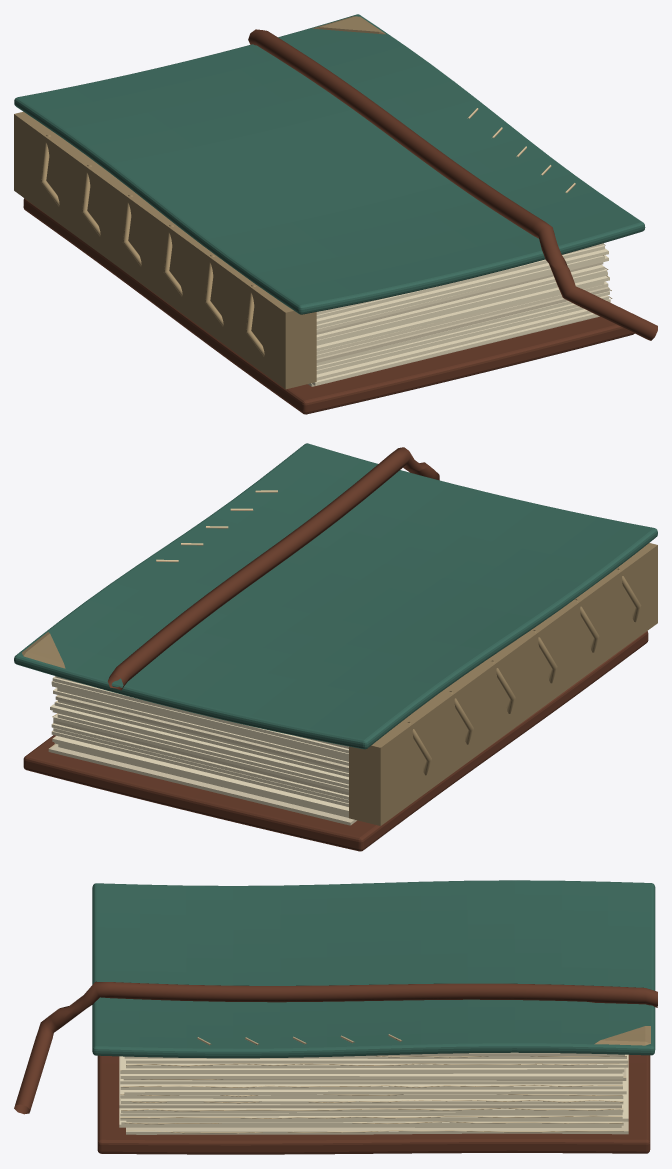
3 renders of one model, top to bottom at view 1: azimuth 30°, elevation 25°; view 2: azimuth 150°, elevation 25°; view 3: azimuth 270°, elevation 25°, orthographic. The views are drawn at different scales.
Visible parts, largest first — view 1: Bent field cover, Wrapped spine skin.001, Flexible lower cover, Loose leather binding tie, Uneven paper signature.059, Uneven paper signature.044, Uneven paper signature.052, Uneven paper signature.055, Uneven paper signature.043, Uneven paper signature.049, Uneven paper signature.047, Uneven paper signature.058 (+10 smaller); view 2: Bent field cover, Wrapped spine skin.001, Flexible lower cover, Loose leather binding tie, Uneven paper signature.042, Uneven paper signature.045, Uneven paper signature.053, Uneven paper signature.056, Uneven paper signature.048, Uneven paper signature.051, Uneven paper signature.057, Uneven paper signature.054 (+12 smaller); view 3: Bent field cover, Flexible lower cover, Loose leather binding tie, Uneven paper signature.042, Uneven paper signature.054, Uneven paper signature.053, Uneven paper signature.057, Uneven paper signature.050, Uneven paper signature.061, Uneven paper signature.049, Uneven paper signature.059, Uneven paper signature.060 (+21 smaller).
Part boxes in pixels (x1,y1,x2,y2): Bent field cover: [14, 14, 645, 314]; Wrapped spine skin.001: [14, 111, 316, 389]; Flexible lower cover: [23, 198, 634, 414]; Loose leather binding tie: [248, 29, 657, 340]; Uneven paper signature.059: [316, 248, 608, 324]; Uneven paper signature.044: [316, 309, 591, 380]; Uneven paper signature.052: [316, 276, 609, 351]; Uneven paper signature.055: [316, 264, 604, 340]; Uneven paper signature.043: [312, 313, 598, 385]; Uneven paper signature.049: [316, 287, 609, 362]; Uneven paper signature.047: [316, 295, 608, 369]; Uneven paper signature.058: [316, 255, 604, 328]; Bent field cover: [14, 443, 657, 749]; Wrapped spine skin.001: [349, 543, 657, 825]; Flexible lower cover: [23, 631, 648, 851]; Loose leather binding tie: [107, 447, 439, 690]; Uneven paper signature.042: [48, 744, 356, 825]; Uneven paper signature.045: [52, 736, 348, 813]; Uneven paper signature.053: [50, 704, 348, 782]; Uneven paper signature.056: [55, 695, 348, 771]; Uneven paper signature.048: [51, 723, 348, 799]; Uneven paper signature.051: [57, 713, 348, 788]; Uneven paper signature.057: [53, 688, 348, 765]; Uneven paper signature.054: [54, 700, 348, 776]; Bent field cover: [92, 880, 655, 1058]; Flexible lower cover: [97, 1054, 650, 1154]; Loose leather binding tie: [14, 981, 657, 1114]; Uneven paper signature.042: [126, 1121, 628, 1134]; Uneven paper signature.054: [120, 1081, 622, 1089]; Uneven paper signature.053: [124, 1068, 626, 1095]; Uneven paper signature.057: [120, 1072, 623, 1079]; Uneven paper signature.050: [121, 1098, 623, 1104]; Uneven paper signature.061: [126, 1054, 628, 1063]; Uneven paper signature.049: [119, 1056, 621, 1108]; Uneven paper signature.059: [121, 1056, 624, 1072]; Uneven paper signature.060: [126, 1063, 628, 1068].
Size of the model in its own units: 0.1643 by 0.0578 by 0.2564.
